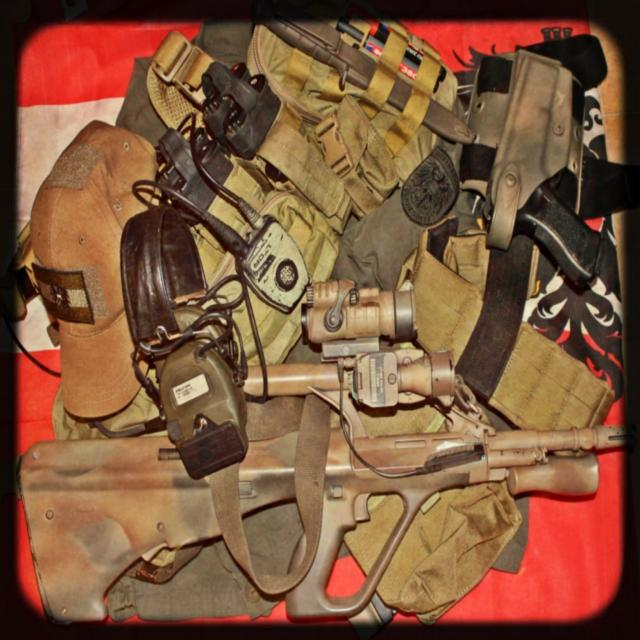firearm: (17, 278, 624, 628)
